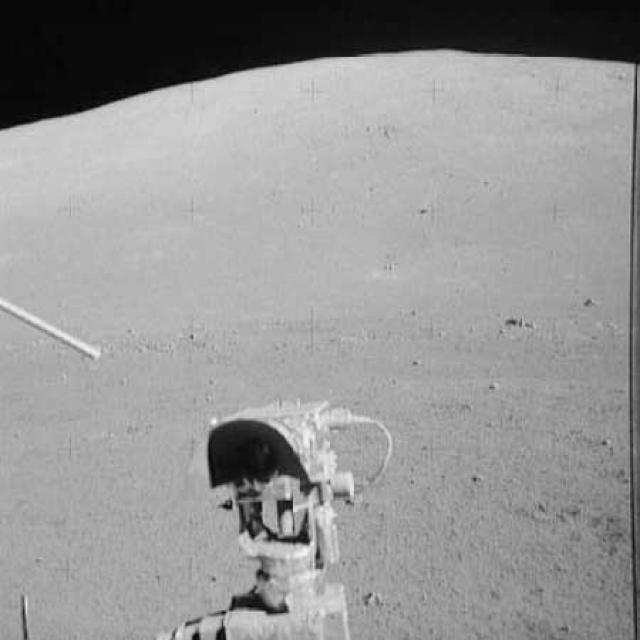artifact: (162, 406, 396, 638), (2, 294, 106, 368)
